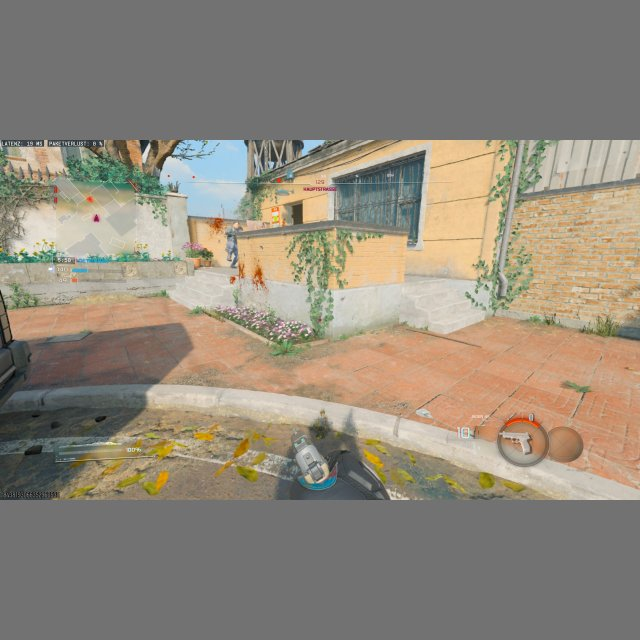player: (225, 223, 242, 268)
